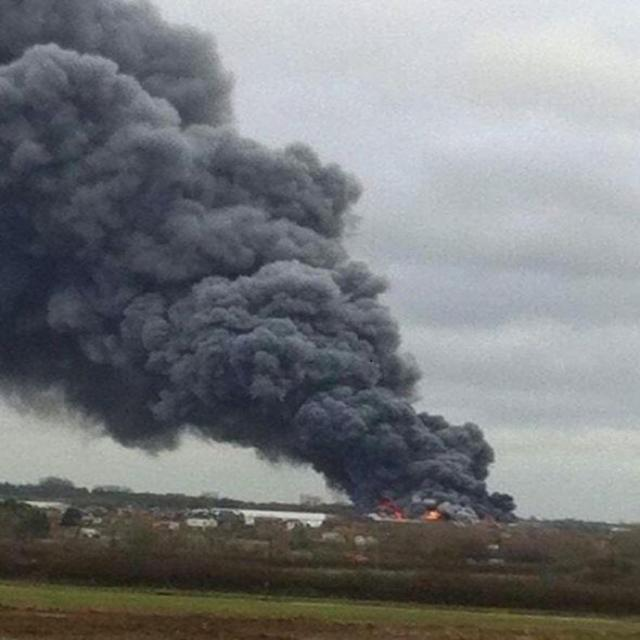Fire: (373, 496, 446, 523)
Smoke: (1, 8, 514, 493), (448, 495, 516, 525)
